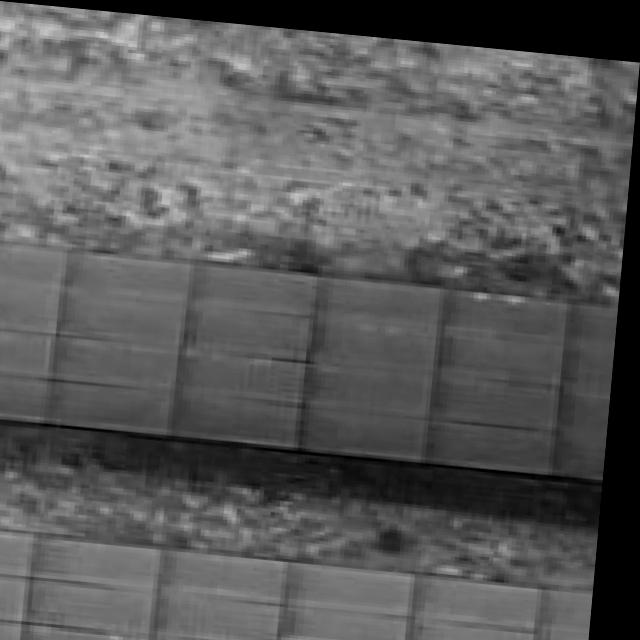Hotspot: (0, 244, 619, 480), (0, 534, 592, 640)
